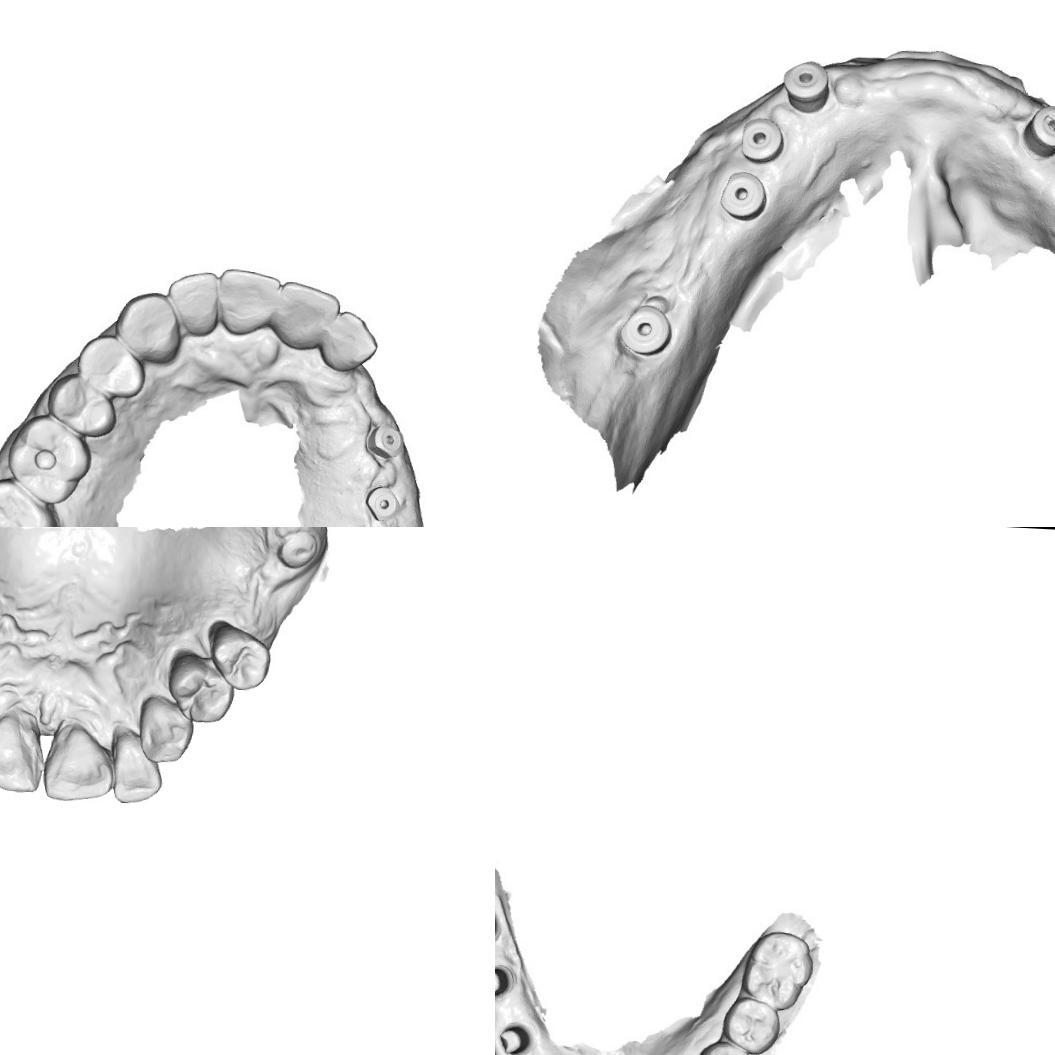abutment: (495, 1016, 534, 1055), (495, 962, 511, 1000)
canine: (115, 288, 182, 364), (132, 696, 195, 764)
implant: (609, 290, 689, 369), (778, 52, 832, 116), (713, 168, 770, 224), (734, 112, 788, 166), (272, 527, 324, 571), (362, 416, 405, 458), (364, 482, 403, 526)
implant_minus: (1016, 95, 1055, 161)
incisor: (36, 720, 116, 804), (210, 261, 286, 339), (276, 278, 340, 350), (163, 268, 220, 342), (105, 737, 164, 807), (320, 310, 379, 375), (0, 712, 42, 797)
molar: (3, 412, 93, 506), (738, 926, 814, 1009), (0, 475, 64, 527)
premolar: (164, 650, 238, 729), (44, 371, 118, 442), (75, 330, 146, 400), (206, 620, 272, 692), (720, 995, 780, 1055), (694, 1039, 754, 1055)
